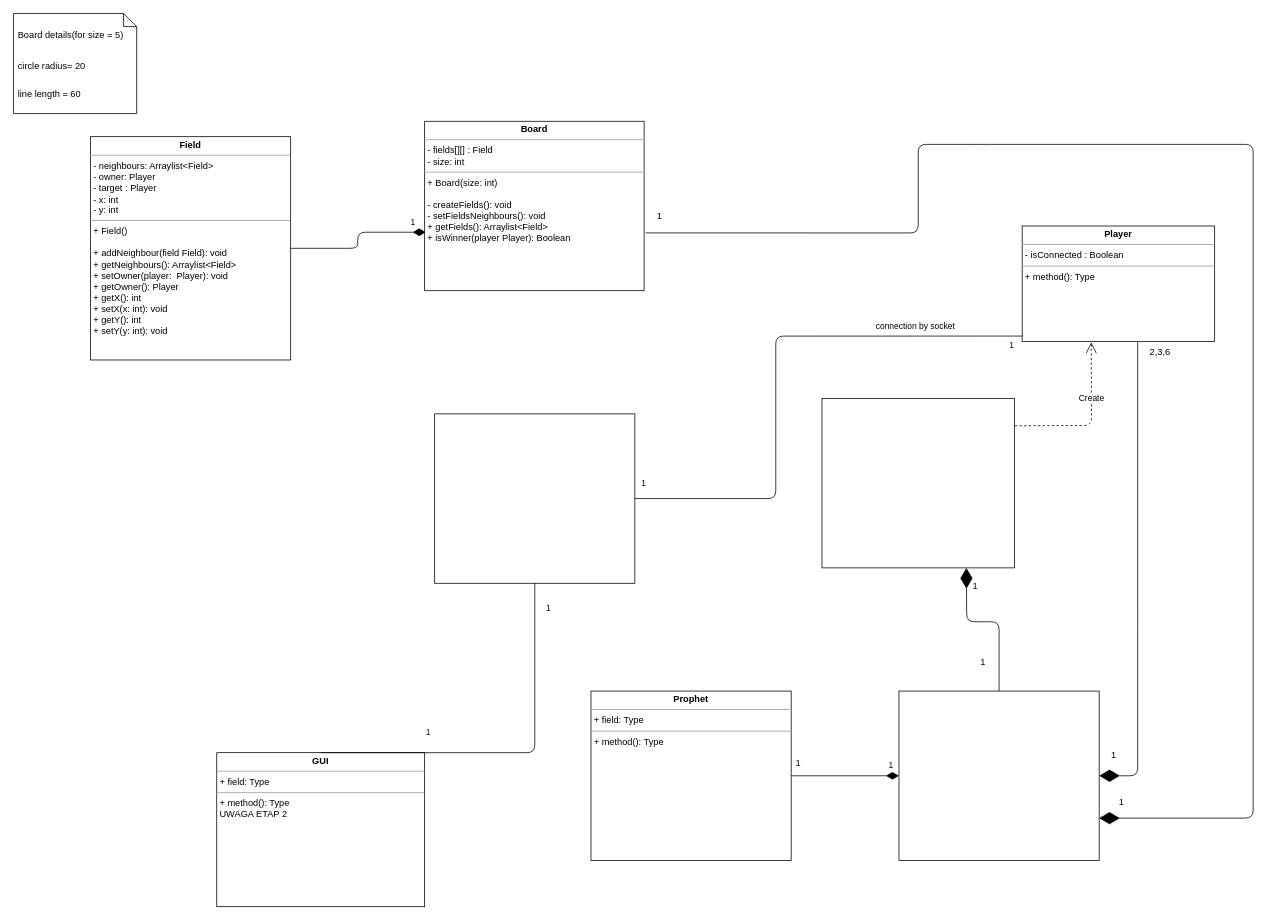
Some shapes in this 1287 by 920 pixel diagram are drawn without their labels. Each missing label, with the box of its shape:
Client + field: Type + method(): Type: (434, 413, 635, 583)
Game - board: Board - players: Arraylist <Player> - game: Game + method(): Type: (898, 690, 1099, 860)
Server + field: Type + method(): Type: (821, 398, 1014, 568)
